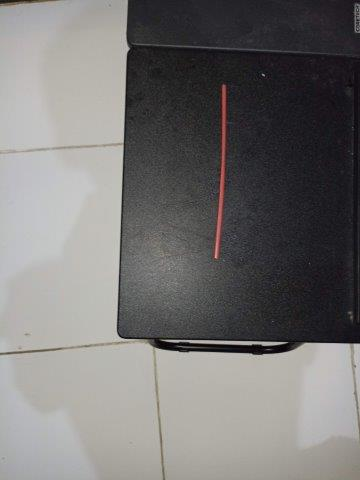sedotan: (214, 84, 227, 259)
